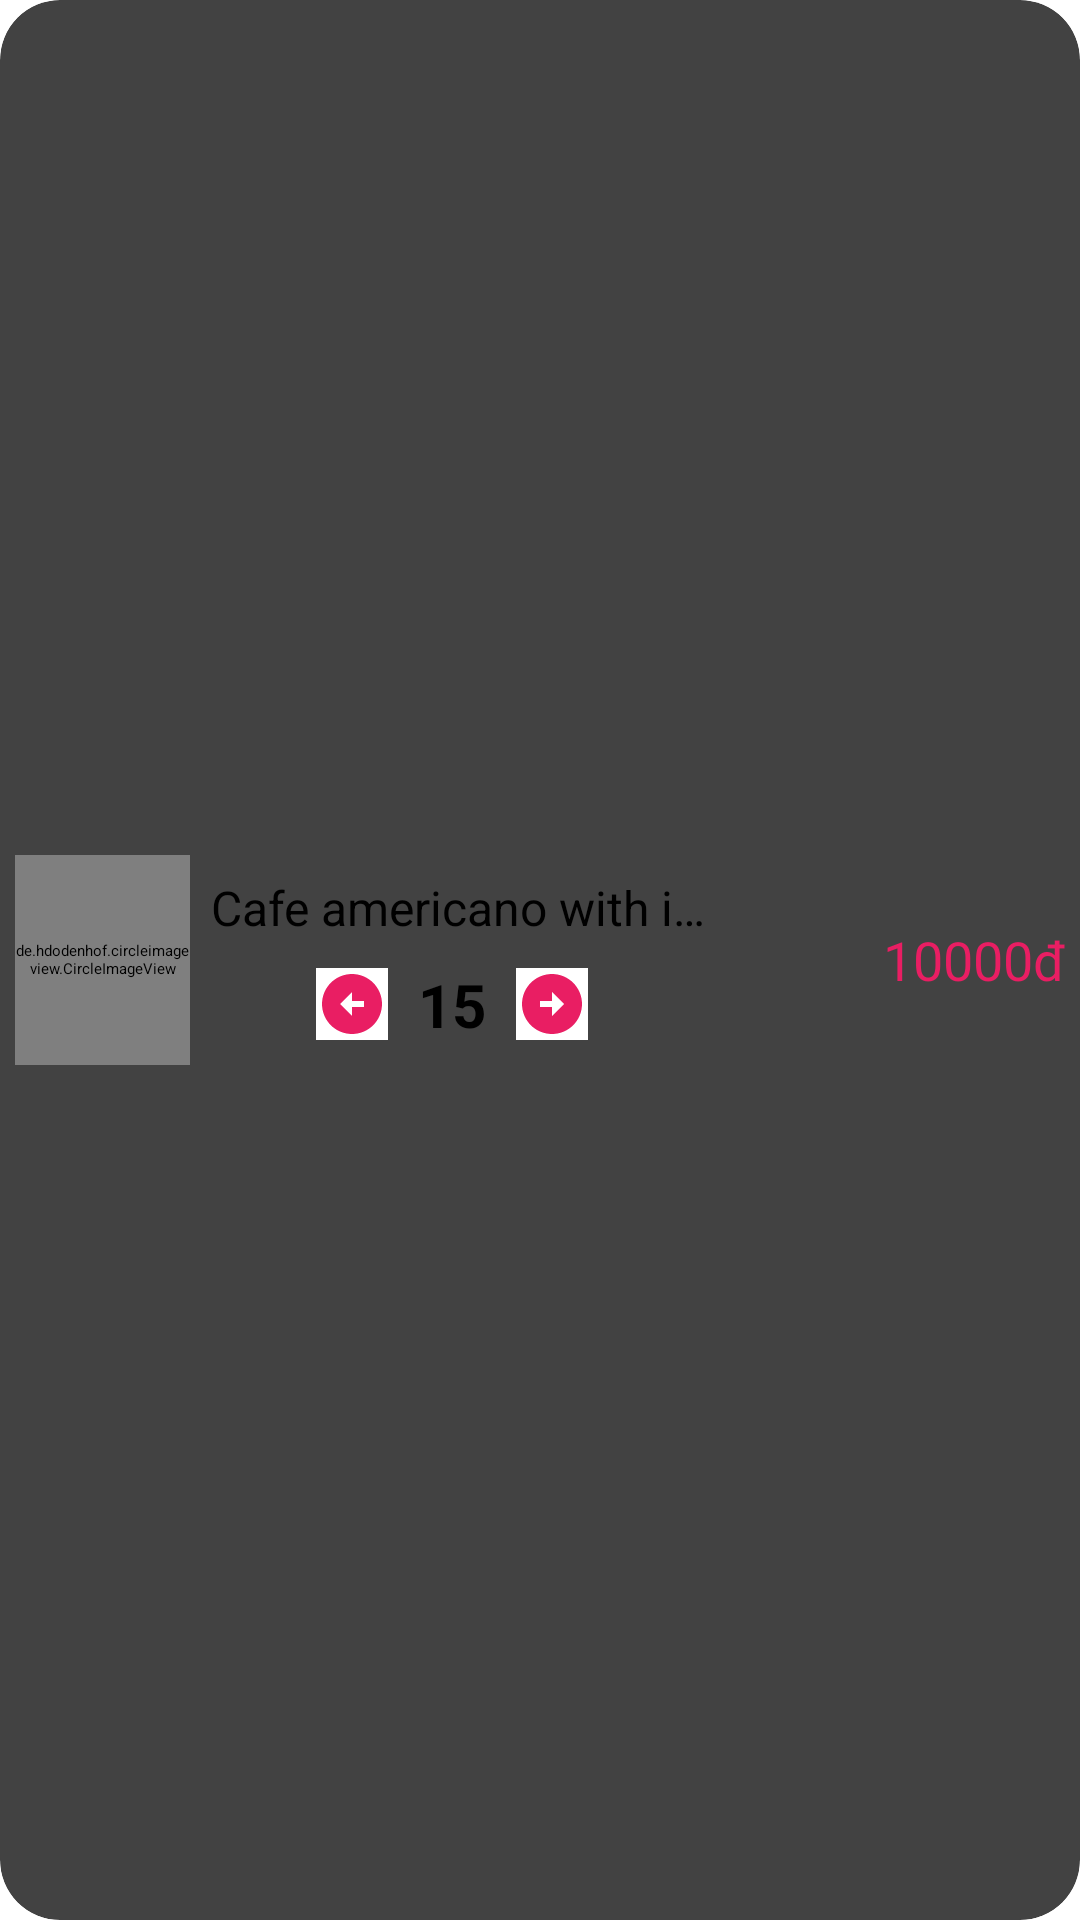

Point at icon controls on the screen. Image size 1080w x 1920h, points as (x=x, y=y).
backback: (x=352, y=1004)
nextnext: (x=552, y=1004)
